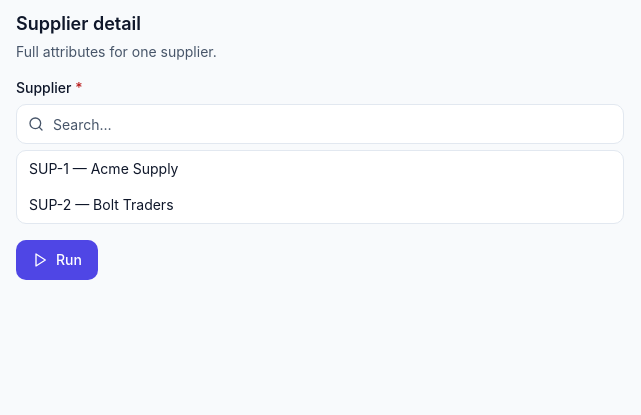
Test: Procurement manifest — US1 suppliers + purchase orders › supplier: picks a supplier and shows detail
The width and height of the screenshot is (641, 415).
Click the button "SUP-1 — Acme Supply" at [104, 168], box [17, 151, 623, 187]
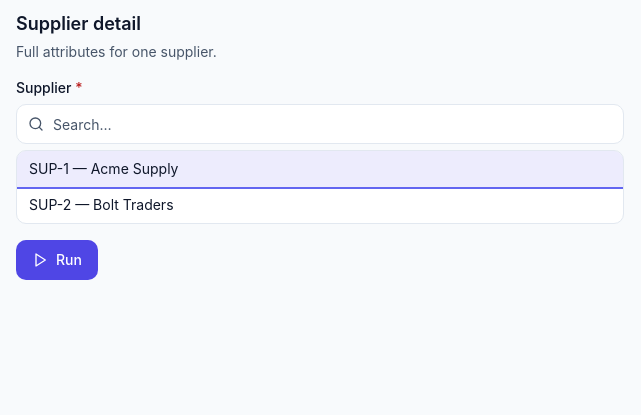
Click the button "Run" at [57, 260], box [16, 240, 98, 280]
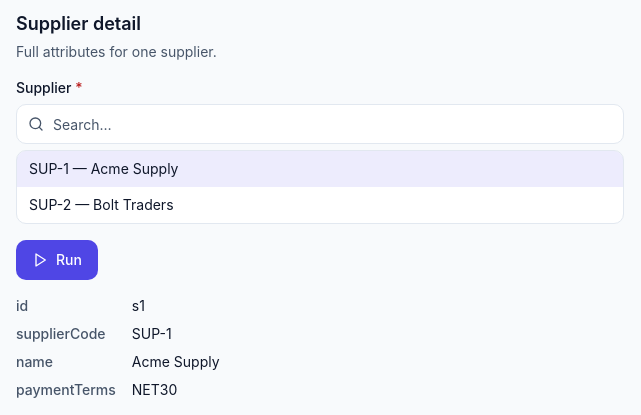
Result: the text "NET30" is shown at [132, 381, 177, 398]
